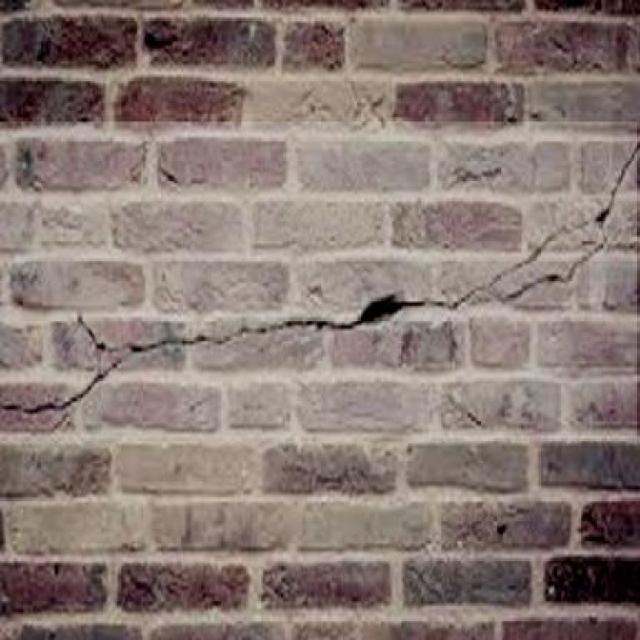Crack: (0, 264, 346, 428), (467, 127, 640, 320), (354, 284, 426, 340)
